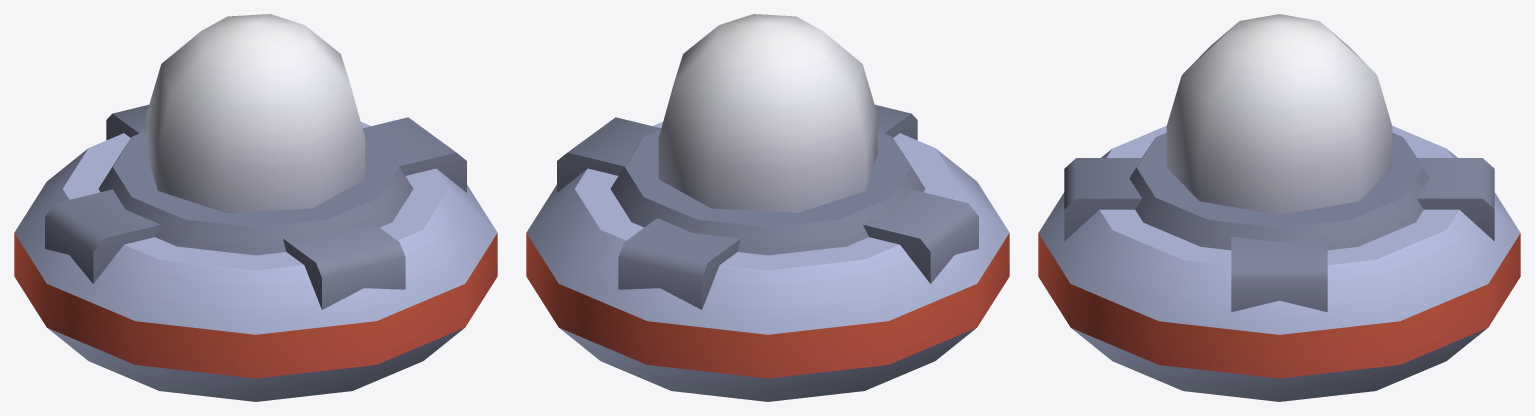
The model's file is kenney-tower-defense-enemy-ufo-a.glb.
The picture shows the model from 3 angles, left to right: view 1: azimuth 30°, elevation 25°; view 2: azimuth 150°, elevation 25°; view 3: azimuth 270°, elevation 25°; orthographic projection.
Visible parts, largest first — view 1: enemy-ufo-a; view 2: enemy-ufo-a; view 3: enemy-ufo-a.
Part boxes in pixels (x1,y1,x2,y2): enemy-ufo-a: [14, 14, 497, 401]; enemy-ufo-a: [526, 14, 1009, 401]; enemy-ufo-a: [1038, 14, 1520, 401].
Size of the model in its own units: 1 by 0.6779 by 1.
1 material, 1 textured.
